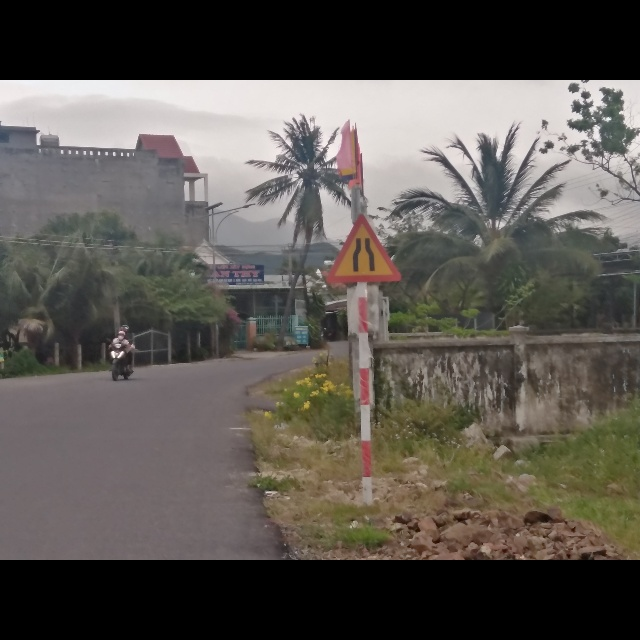Đường bị hẹp cả hai bên: (324, 211, 402, 285)
